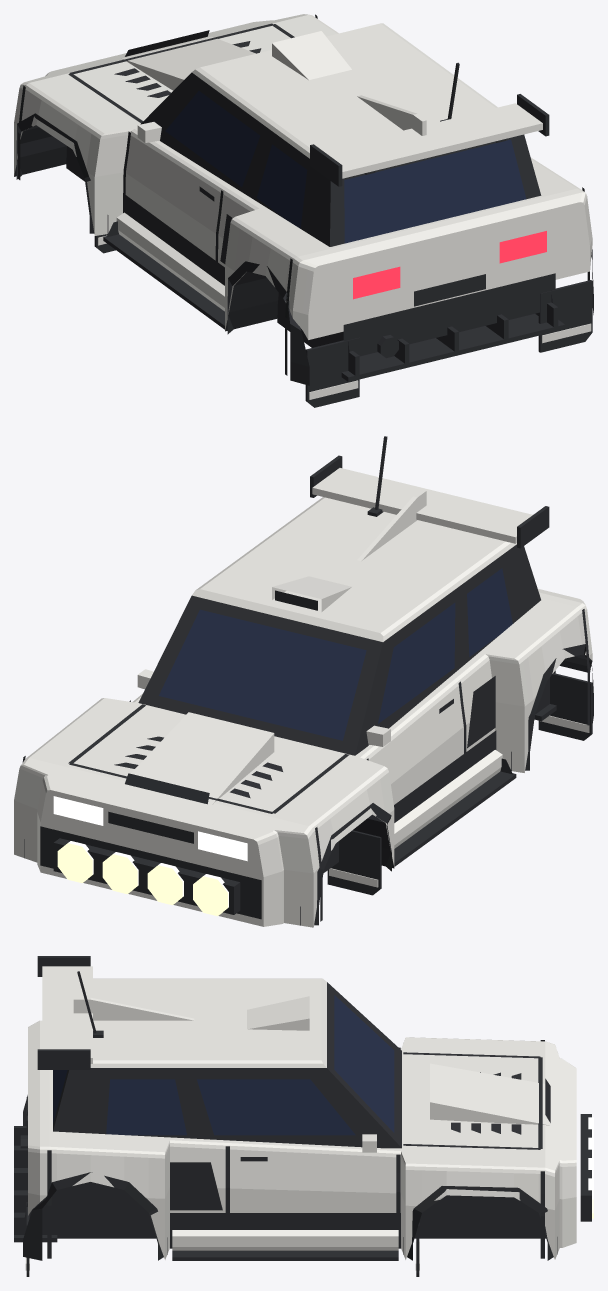
Rendered from Fauve.glb.
The picture shows the model from 3 angles, top to bottom: view 1: azimuth 30°, elevation 25°; view 2: azimuth 150°, elevation 25°; view 3: azimuth 270°, elevation 25°; orthographic projection. The views are drawn at different scales.
Parts seen in each view (by area): view 1: BumperRear, Roof, RearWindow, Pillars, Hood, Door_FL, TailGarnish, Opt_Wing_Rally_WingBlade, Fender_FL, Opt_Diffuser_Race_AccDiffuserRace, Window_FL, Opt_Mudflaps_Long_AccMudflapsLong (+25 smaller); view 2: Roof, BumperFront, Windshield, Pillars, Hood, Fender_RL, Opt_Hood_Scoop_HoodScoop, Opt_Wing_Rally_WingBlade, Door_FL, Opt_Bumper_Lamps_RallyLamp, Window_FL, Opt_Mudflaps_Long_AccMudflapsLong (+23 smaller); view 3: Roof, Pillars, Hood, Door_FR, WheelWell, Window_FR, Fender_RR, BumperFront, Opt_Hood_Scoop_HoodScoop, Fender_FR, Windshield, Opt_Skirts_Side_AccSkirt_R (+17 smaller).
Boxes of the visible parts, x1,y1,x2,y2 form: BumperRear: (289,189,592,339); Roof: (192,23,497,158); RearWindow: (344,139,526,243); Pillars: (140,72,541,246); Hood: (29,14,337,133); Door_FL: (125,129,229,263); TailGarnish: (343,273,555,356); Opt_Wing_Rally_WingBlade: (322,103,542,178); Fender_FL: (20,83,133,235); Opt_Diffuser_Race_AccDiffuserRace: (332,302,564,381); Window_FL: (165,91,260,186); Opt_Mudflaps_Long_AccMudflapsLong: (94,234,592,407); Roof: (192,497,516,641); BumperFront: (14,758,318,927); Windshield: (159,609,366,740); Pillars: (138,544,540,755); Hood: (29,698,384,825); Fender_RL: (455,606,586,772); Opt_Hood_Scoop_HoodScoop: (121,712,274,805); Opt_Wing_Rally_WingBlade: (312,468,532,543); Door_FL: (360,679,463,804); Opt_Bumper_Lamps_RallyLamp: (57,841,228,916); Window_FL: (378,603,455,723); Opt_Mudflaps_Long_AccMudflapsLong: (327,673,592,895); Roof: (90,978,326,1067); Pillars: (53,982,401,1148); Hood: (401,1037,545,1167); Door_FR: (225,1143,400,1212); WheelWell: (24,1110,546,1238); Window_FR: (197,1079,355,1135); Fender_RR: (47,1140,225,1259); BumperFront: (545,1041,576,1259); Opt_Hood_Scoop_HoodScoop: (430,1063,550,1125); Fender_FR: (401,1152,545,1259); Windshield: (334,995,394,1132); Opt_Skirts_Side_AccSkirt_R: (172,1230,398,1250).
Size of the model in its own units: 6.7 by 5.97 by 12.05.
